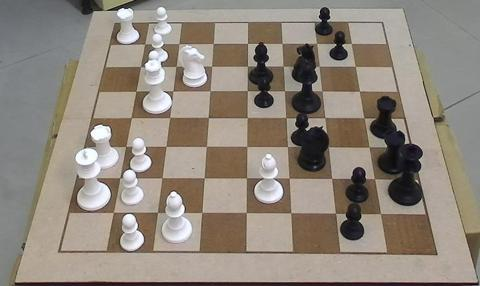xcorner: (277, 38, 287, 48), (242, 38, 252, 48), (173, 38, 183, 48), (139, 38, 149, 48), (242, 61, 252, 71), (206, 61, 216, 71), (135, 61, 145, 71), (355, 85, 365, 95), (317, 85, 327, 95), (242, 85, 252, 95), (205, 85, 215, 95), (320, 112, 330, 122), (281, 112, 291, 122), (242, 112, 252, 122), (203, 112, 213, 122), (164, 112, 174, 122), (242, 141, 252, 151), (201, 141, 211, 151), (161, 141, 171, 151), (242, 173, 252, 183), (157, 173, 167, 183), (115, 173, 125, 183), (242, 208, 252, 218), (197, 208, 207, 218), (153, 208, 163, 218), (346, 38, 356, 47), (312, 38, 321, 48), (208, 38, 217, 48), (350, 61, 360, 70), (314, 61, 324, 70), (278, 61, 288, 70), (171, 61, 180, 71), (280, 85, 289, 95), (130, 86, 140, 95), (360, 112, 369, 122), (126, 112, 135, 122), (365, 142, 375, 151), (324, 142, 334, 151), (283, 142, 293, 151), (121, 141, 130, 151), (371, 174, 380, 184), (200, 173, 209, 183), (377, 209, 386, 219), (332, 209, 341, 219), (287, 209, 297, 218), (168, 86, 177, 95), (328, 174, 337, 183), (285, 174, 294, 183), (109, 208, 118, 217)
